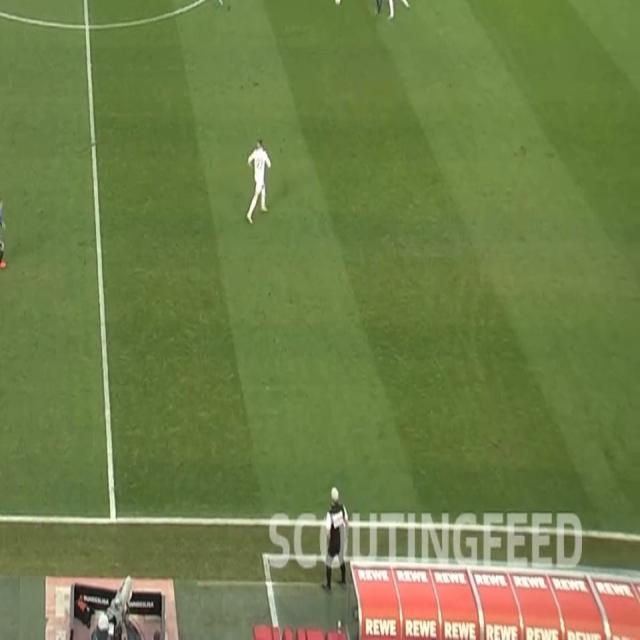ball: (333, 0, 342, 6)
